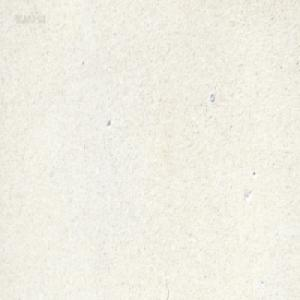Washer: (209, 91, 215, 102)
